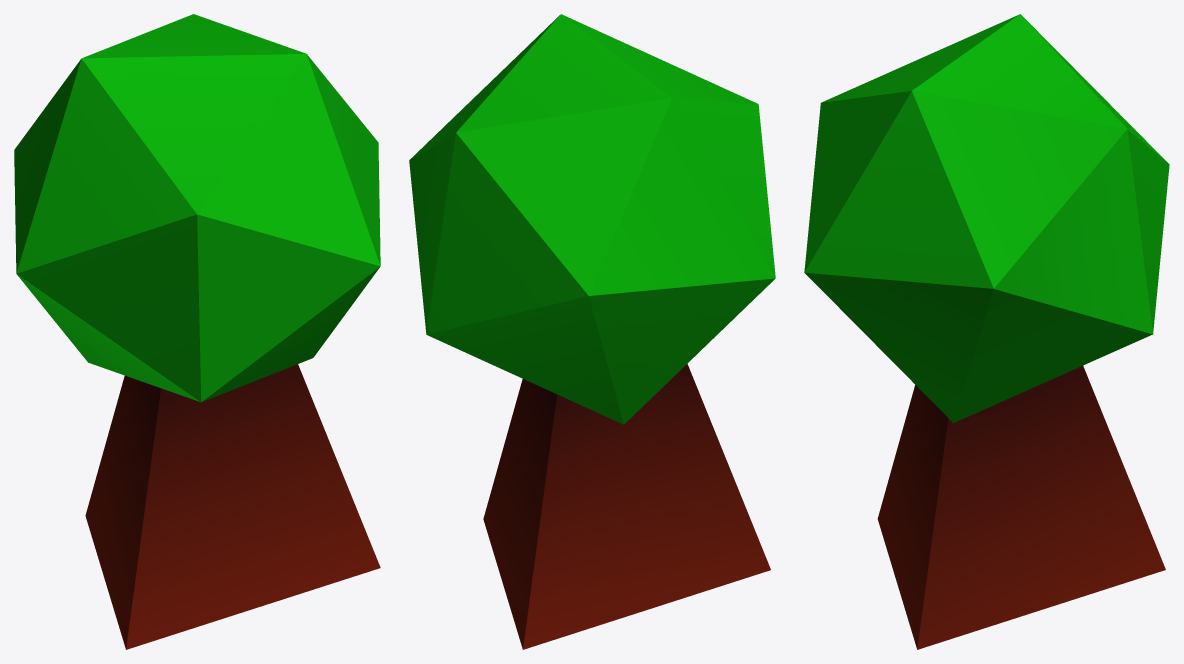
Rendered from tree4.fbx.
3 views of the same model, side by side, from view 1: azimuth 30°, elevation 25°; view 2: azimuth 150°, elevation 25°; view 3: azimuth 270°, elevation 25° (orthographic). The views are drawn at different scales.
Parts seen in each view (by area): view 1: tree.003; view 2: tree.003; view 3: tree.003.
Part boxes in pixels (x1,y1,x2,y2): tree.003: [14, 14, 380, 649]; tree.003: [409, 14, 775, 649]; tree.003: [804, 14, 1169, 649].
Size of the model in its own units: 394 by 546 by 346.
